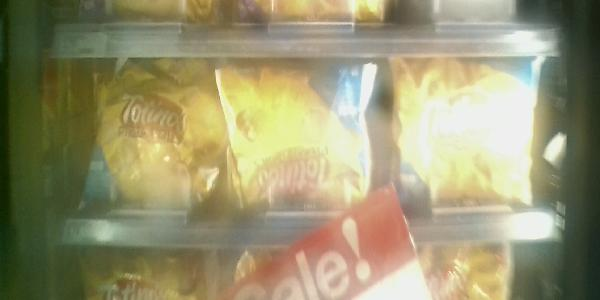icecream: (215, 56, 381, 211), (380, 54, 539, 209), (76, 64, 223, 223)
